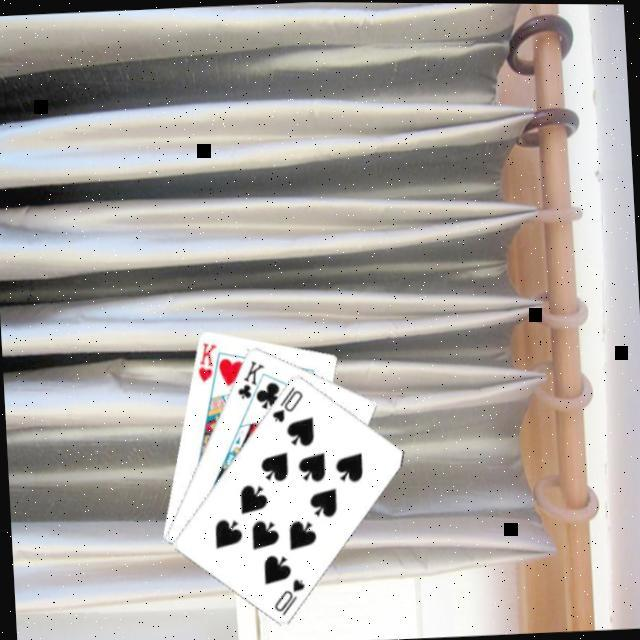10S: (268, 381, 308, 425), (270, 573, 310, 617)
KC: (232, 354, 270, 408)
KH: (195, 336, 222, 384)
